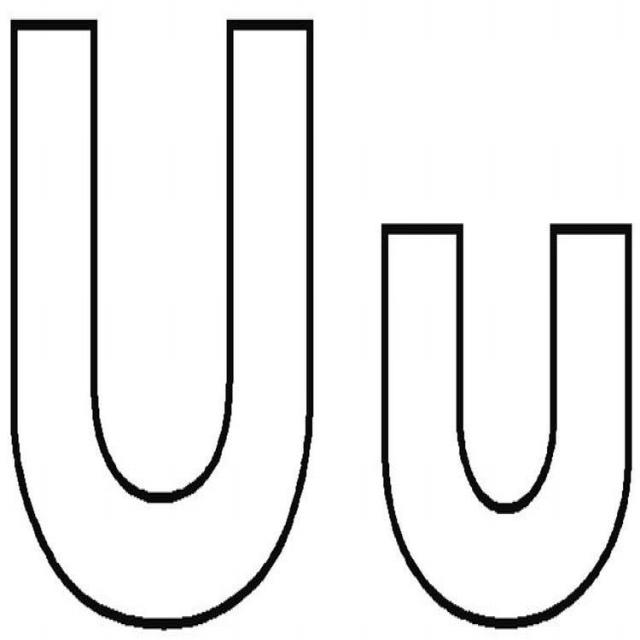U: (347, 160, 634, 638)
